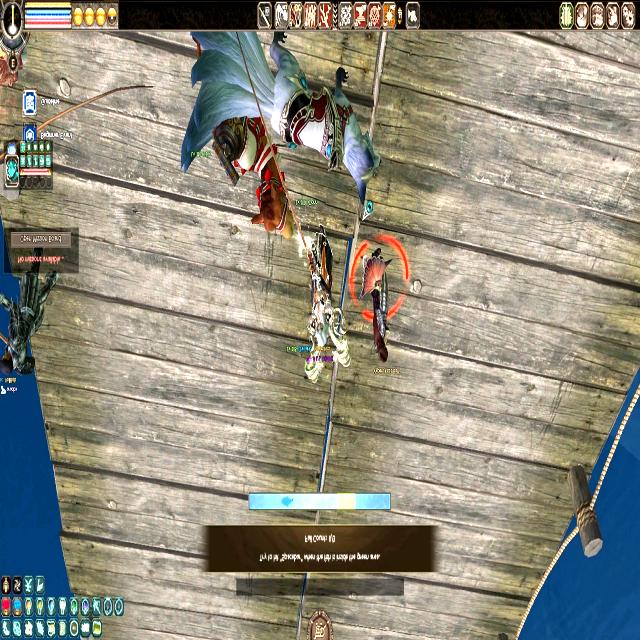fishes: (281, 494, 294, 508)
